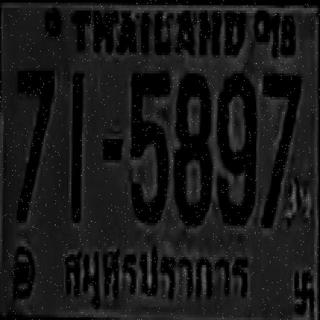N01: (71, 74, 82, 220)
N05: (130, 70, 169, 222)
N07: (262, 71, 300, 226), (15, 68, 53, 220)
N08: (173, 71, 209, 223)
N09: (216, 72, 256, 222)
P57: (58, 230, 256, 313)
